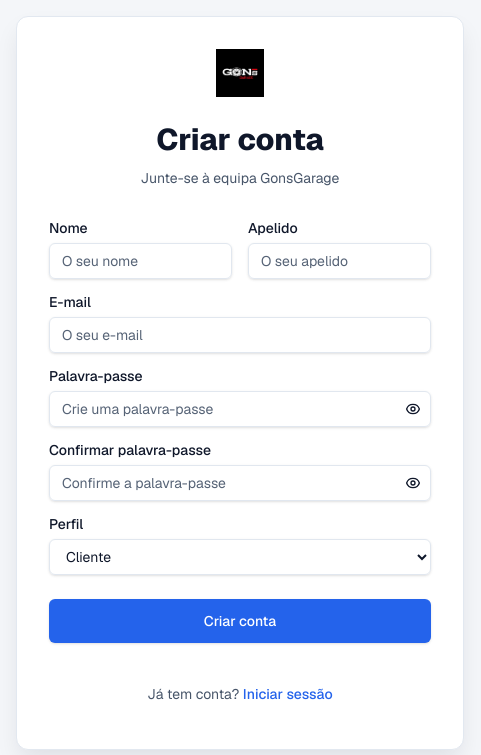
it: RegisterPage › does not prefix unexpected errors with English "Error:"
The width and height of the screenshot is (481, 755).
Type "Maria" into the field labelled "Nome".
click(140, 261); type("Maria")  # box 49,243 -> 232,279
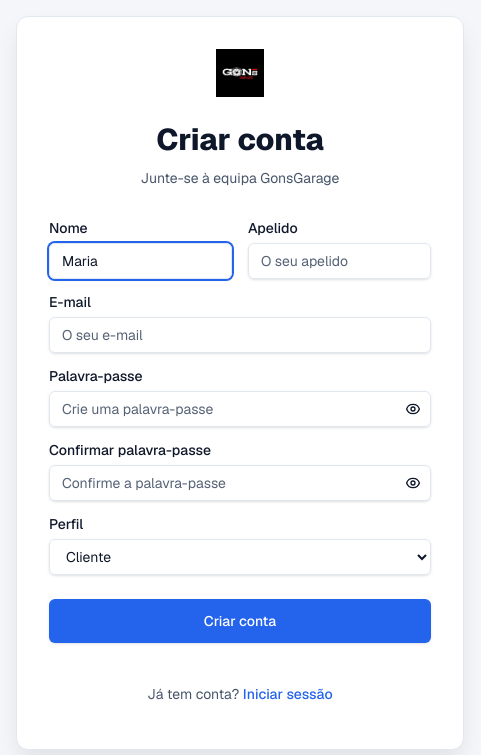
Type "Silva" into the field labelled "Apelido".
click(340, 261); type("Silva")  # box 248,243 -> 431,279
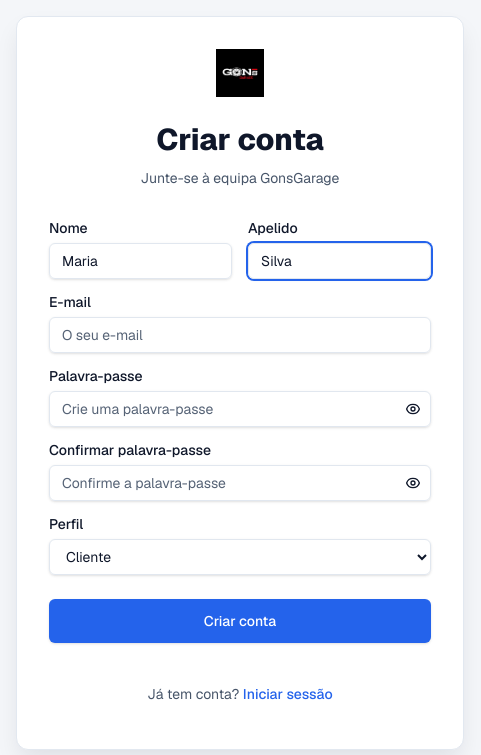
Type "maria@example.com" into the field labelled "E-mail".
click(240, 335); type("maria@example.com")  # box 49,317 -> 431,353
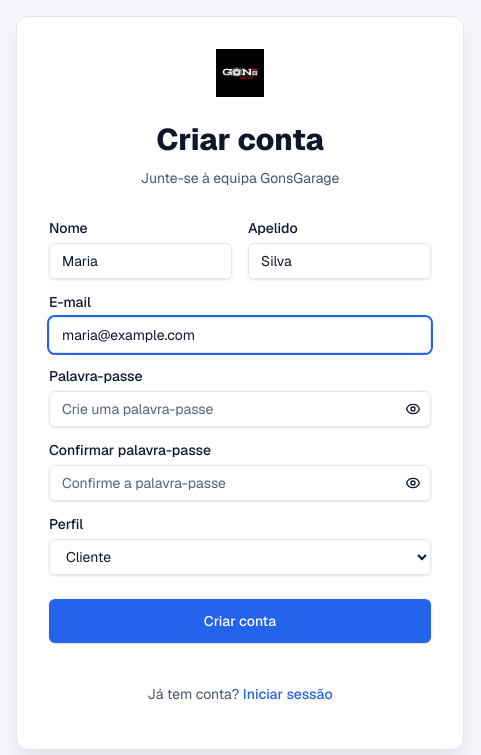
Type "secret12" into the password field labelled "Palavra-passe".
click(240, 409); type("secret12")  # box 49,391 -> 431,427
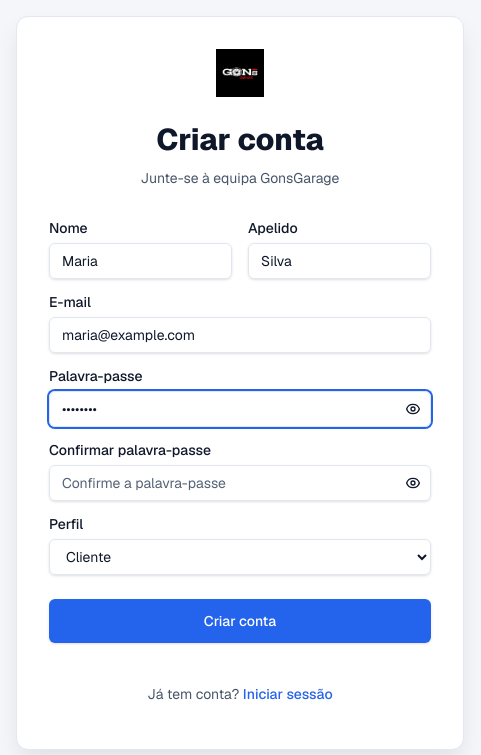
Type "secret12" into the password field labelled "Confirmar palavra-passe".
click(240, 483); type("secret12")  # box 49,465 -> 431,501
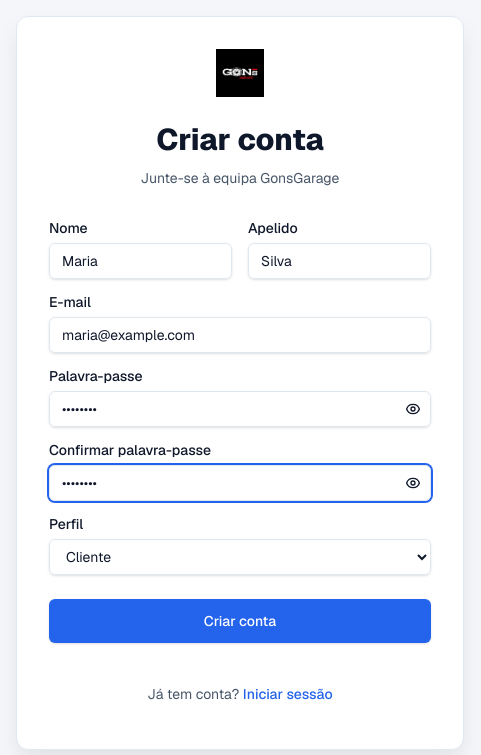
Click the button "Criar conta".
click(240, 621)  # box 49,599 -> 431,643
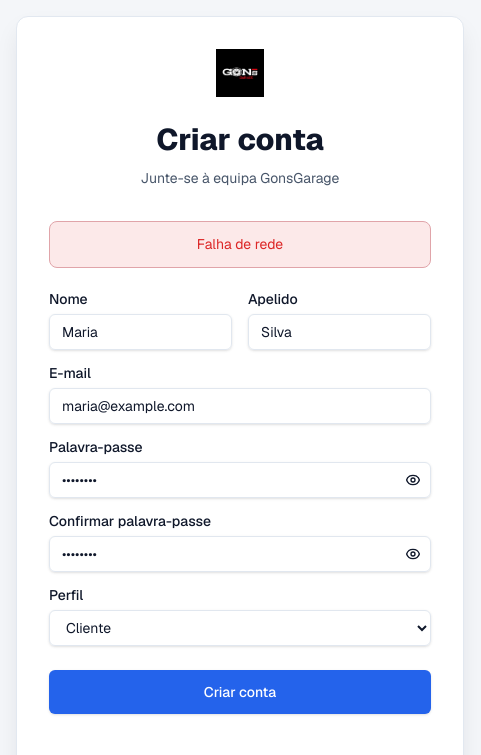
Now the message reads "Falha de rede", box 197,235 -> 283,253
